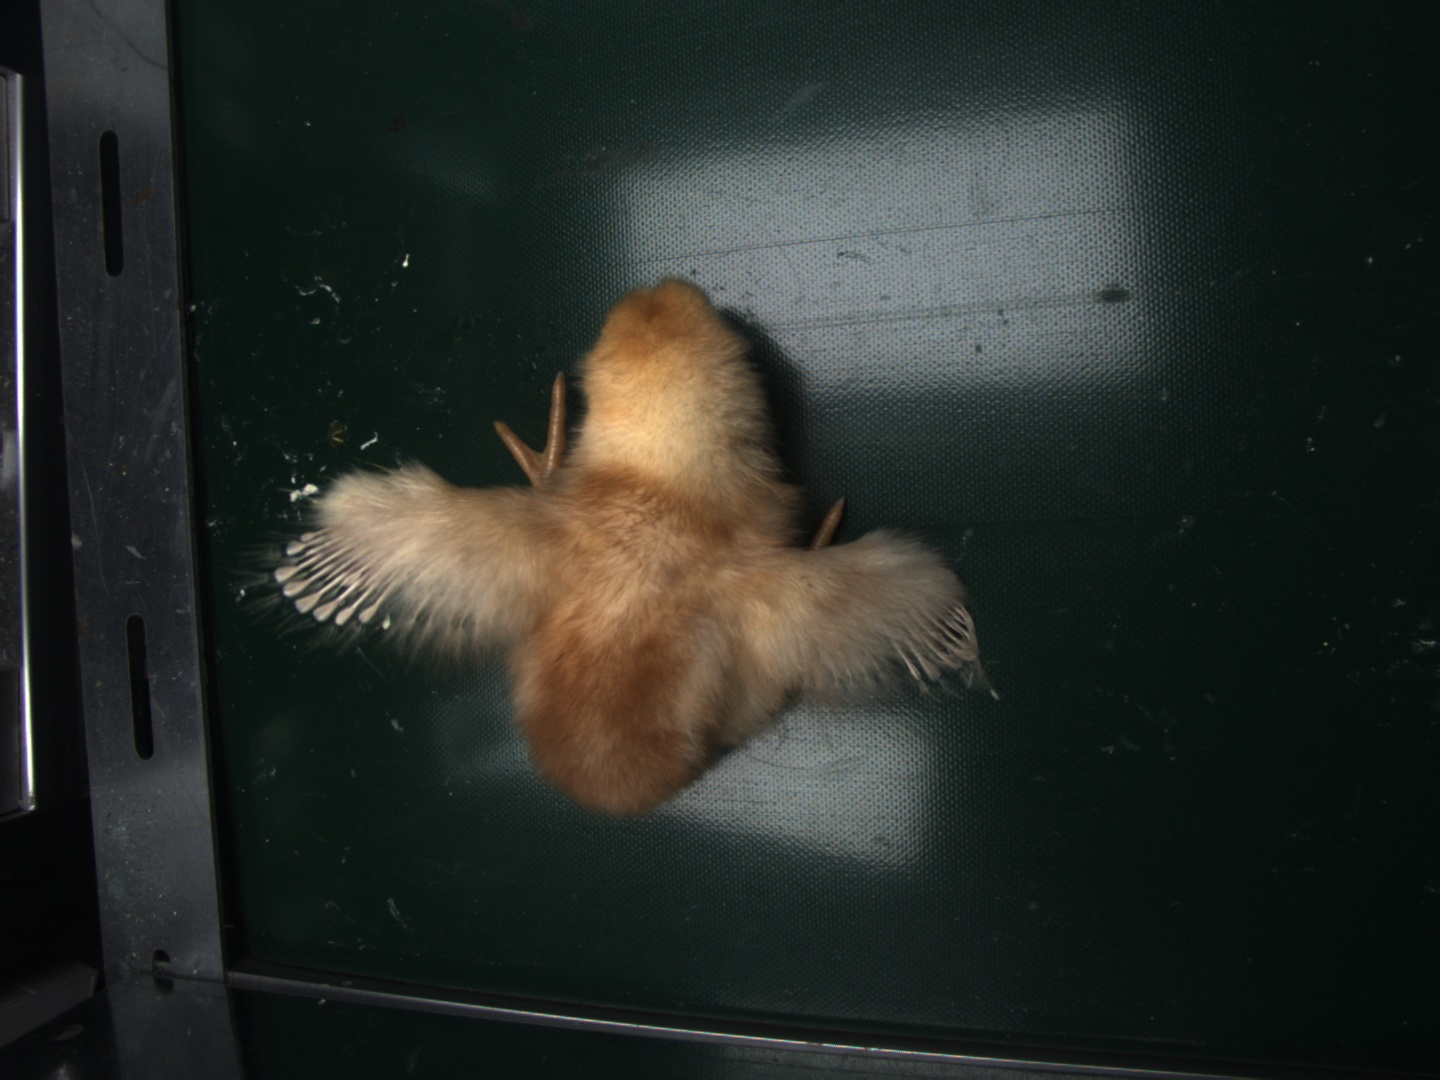female: (271, 525, 390, 635)
